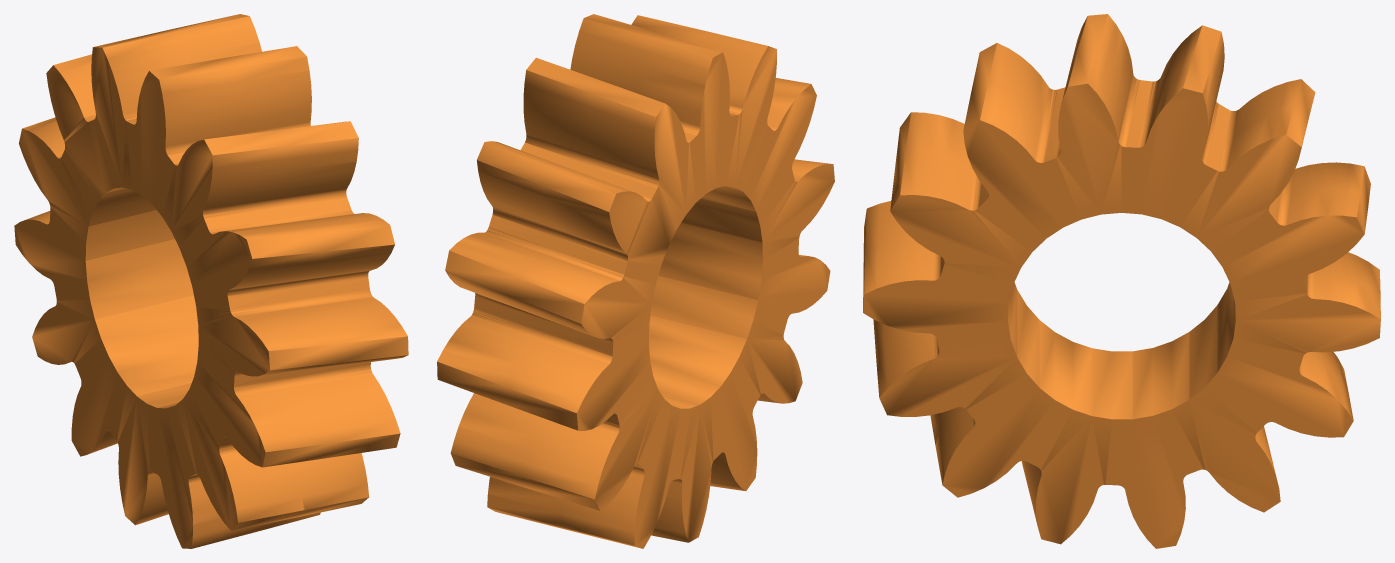
Rendered from 12_corona_14t_pip_v31.glb.
3 renders of one model, left to right at view 1: azimuth 30°, elevation 25°; view 2: azimuth 150°, elevation 25°; view 3: azimuth 270°, elevation 25°, orthographic.
Visible parts, largest first — view 1: 12_Corona_14T_PIP_V31; view 2: 12_Corona_14T_PIP_V31; view 3: 12_Corona_14T_PIP_V31.
Boxes of the visible parts, x1,y1,x2,y2 form: 12_Corona_14T_PIP_V31: (14,14,408,548); 12_Corona_14T_PIP_V31: (437,14,834,548); 12_Corona_14T_PIP_V31: (863,14,1380,548).
Bounding box in the file's own units: 0.005 × 0.0161 × 0.0161.
